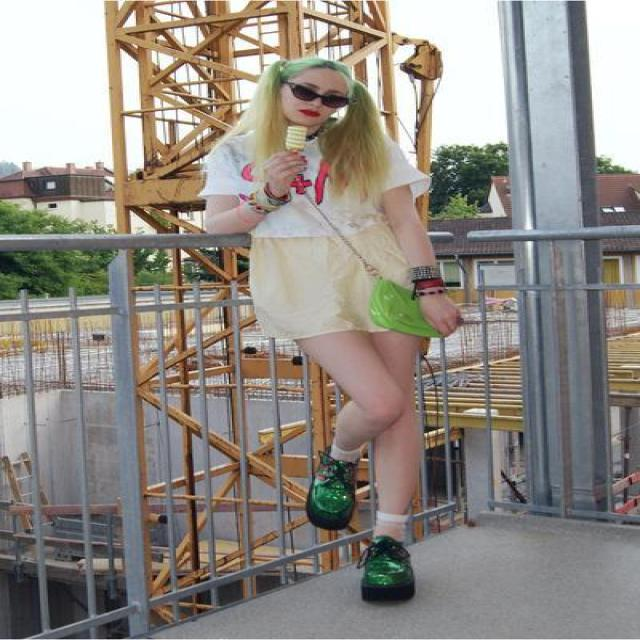bag: (371, 277, 429, 332)
shirt: (198, 128, 432, 238)
shoe: (306, 444, 414, 605)
skirt: (246, 223, 424, 343)
sunglass: (291, 90, 347, 116)
